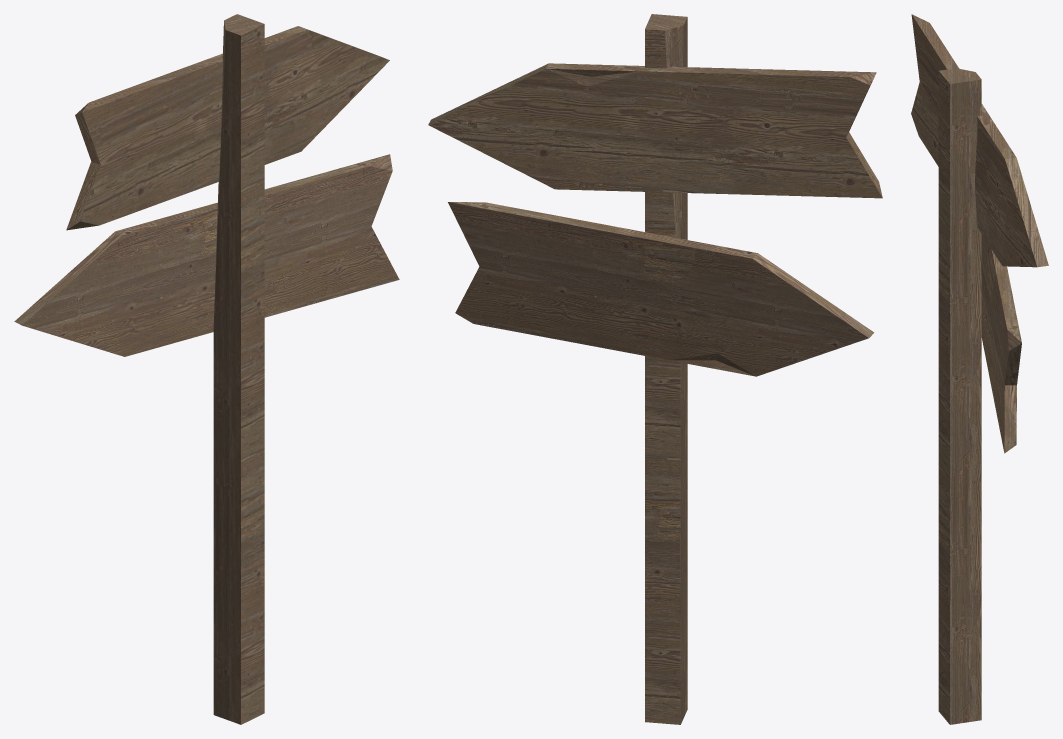
The model's file is OU_AR_Sign_01_D.fbx.
3 views of the same model, side by side, from view 1: azimuth 30°, elevation 25°; view 2: azimuth 150°, elevation 25°; view 3: azimuth 270°, elevation 25° (orthographic). The views are drawn at different scales.
Parts seen in each view (by area): view 1: OU_AR_Sign_01_D; view 2: OU_AR_Sign_01_D; view 3: OU_AR_Sign_01_D.
Part boxes in pixels (bbox=[...]): OU_AR_Sign_01_D: bbox=[14, 14, 399, 724]; OU_AR_Sign_01_D: bbox=[428, 14, 882, 724]; OU_AR_Sign_01_D: bbox=[911, 14, 1048, 724].
Bounding box in the file's own units: 119 × 193 × 37.67.
1 material, 1 textured.
